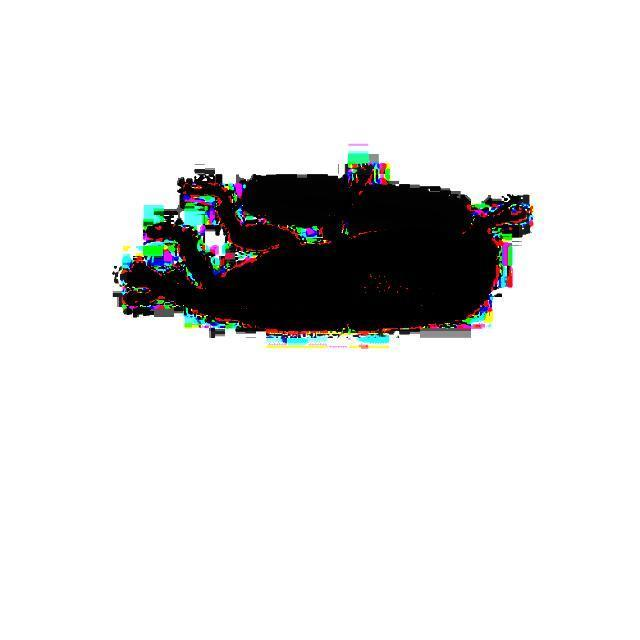rice-bug: (127, 175, 519, 331)
